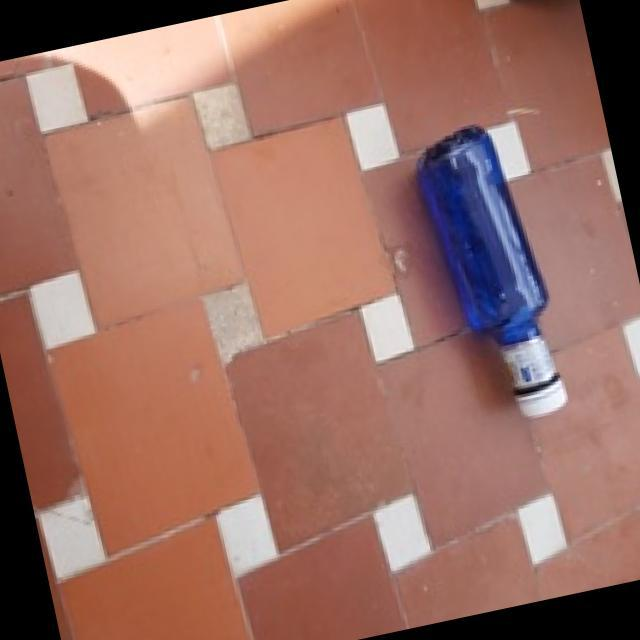good: (396, 104, 592, 446)
